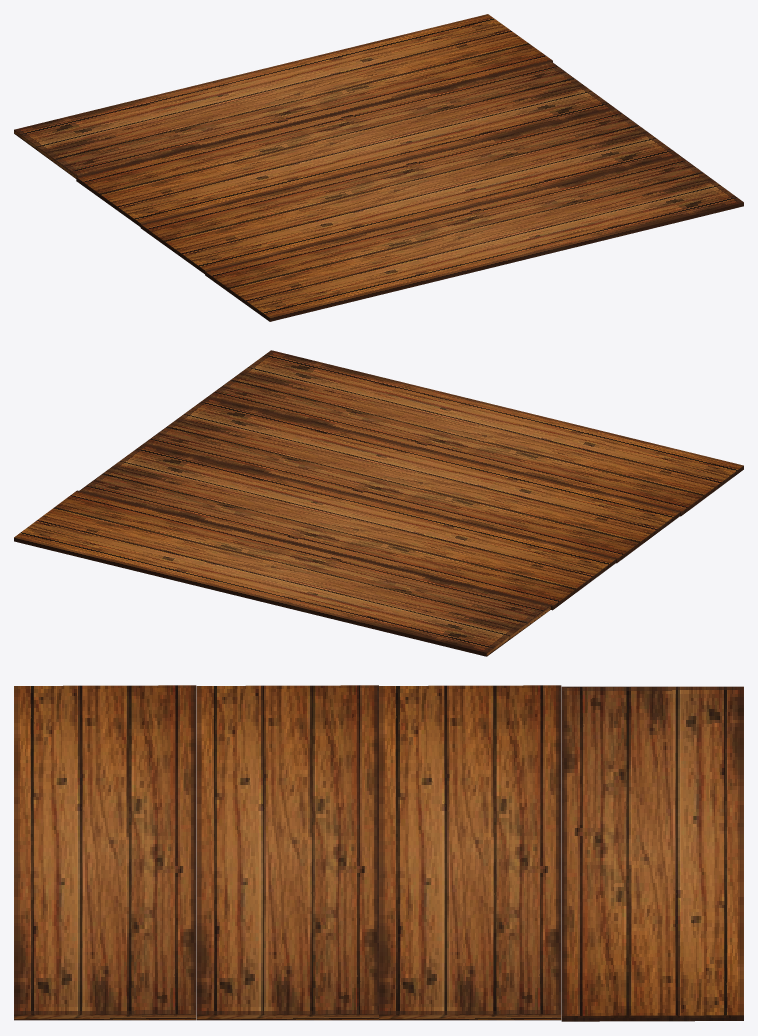
File: SM_Stage_Floor.glb
The picture shows the model from 3 angles, top to bottom: view 1: azimuth 30°, elevation 25°; view 2: azimuth 150°, elevation 25°; view 3: azimuth 270°, elevation 25°; orthographic projection. The views are drawn at different scales.
Parts seen in each view (by area): view 1: SM_Floor_A.005; view 2: SM_Floor_A.005; view 3: SM_Floor_A.005.
Part boxes in pixels (box(x1,y1,x2,y2)): SM_Floor_A.005: box(14, 14, 743, 321); SM_Floor_A.005: box(14, 350, 743, 656); SM_Floor_A.005: box(14, 685, 743, 1021).
Bounding box in the file's own units: 17.14 × 0.1361 × 15.99.
1 material, 1 textured.
